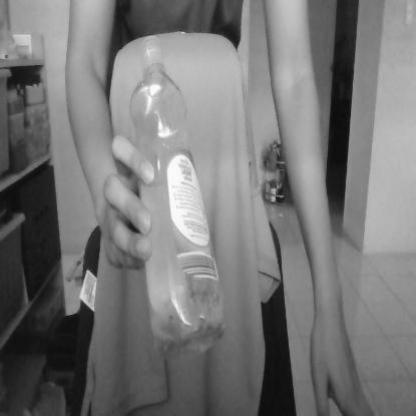Plastic Bottle: (130, 35, 229, 365)
